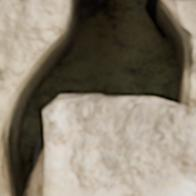brick: (30, 96, 195, 195)
broken_brick: (173, 0, 195, 2)
crack: (0, 0, 193, 195)
